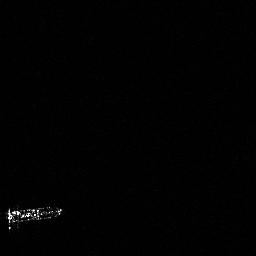ship: (2, 202, 64, 234)
